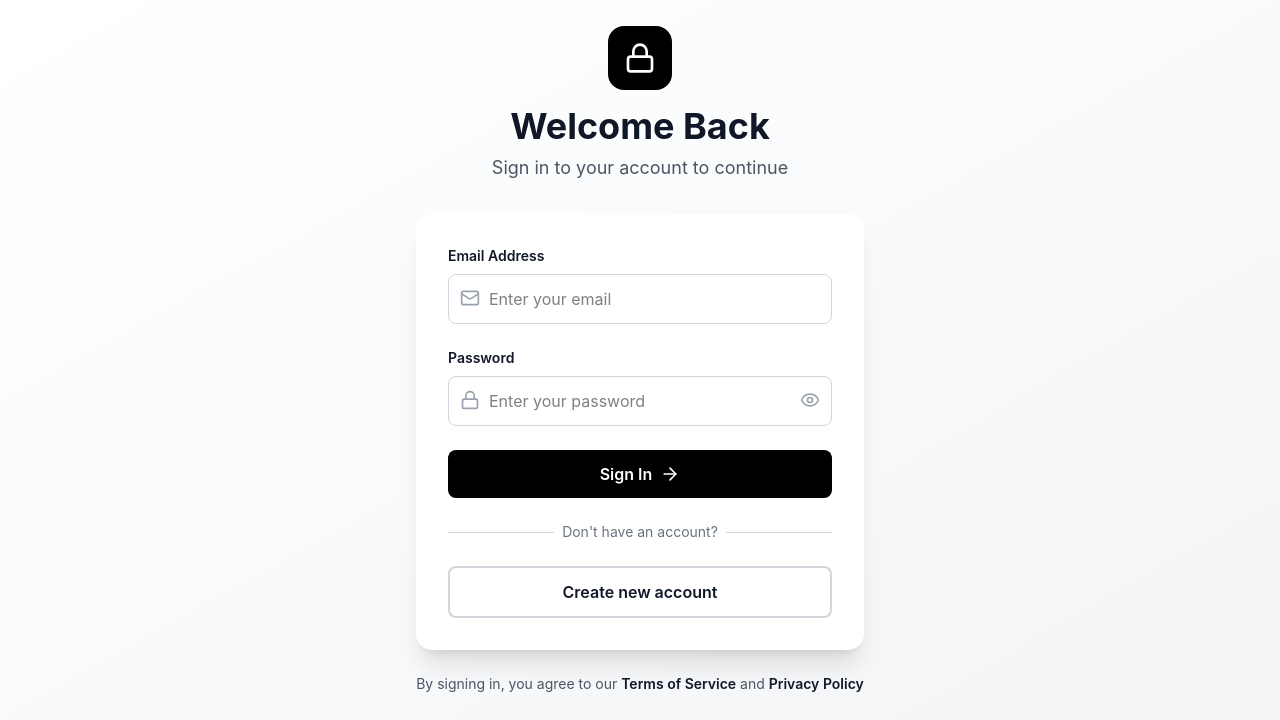
it: Authentication E2E Tests › should navigate to register page
The image size is (1280, 720).
What coordinates should you click on to do the following:
click the link "Create new account"
I would click on:
 (640, 592)
Its box is [448,566,832,618].
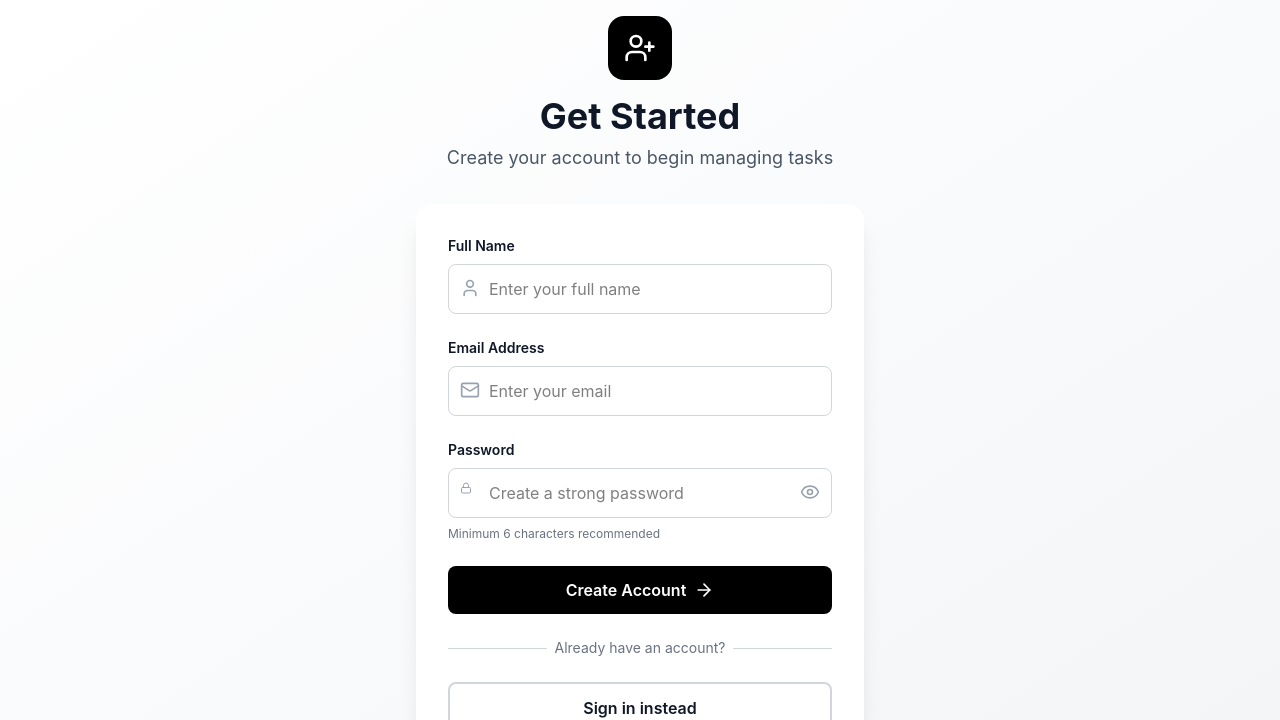
expect the heading "Get Started" is shown: met, box [540,94,740,138]
